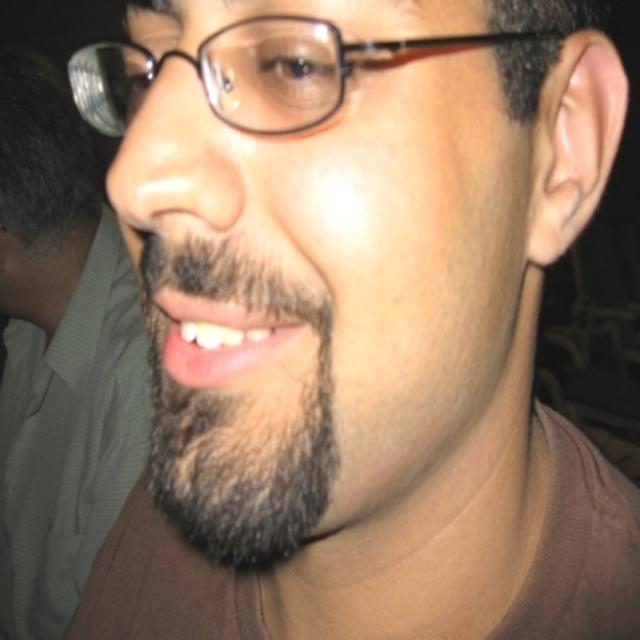piel: (116, 0, 627, 640)
